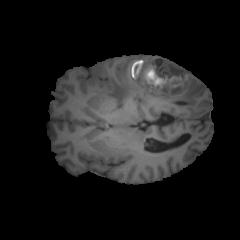glioma: (107, 56, 203, 110)
